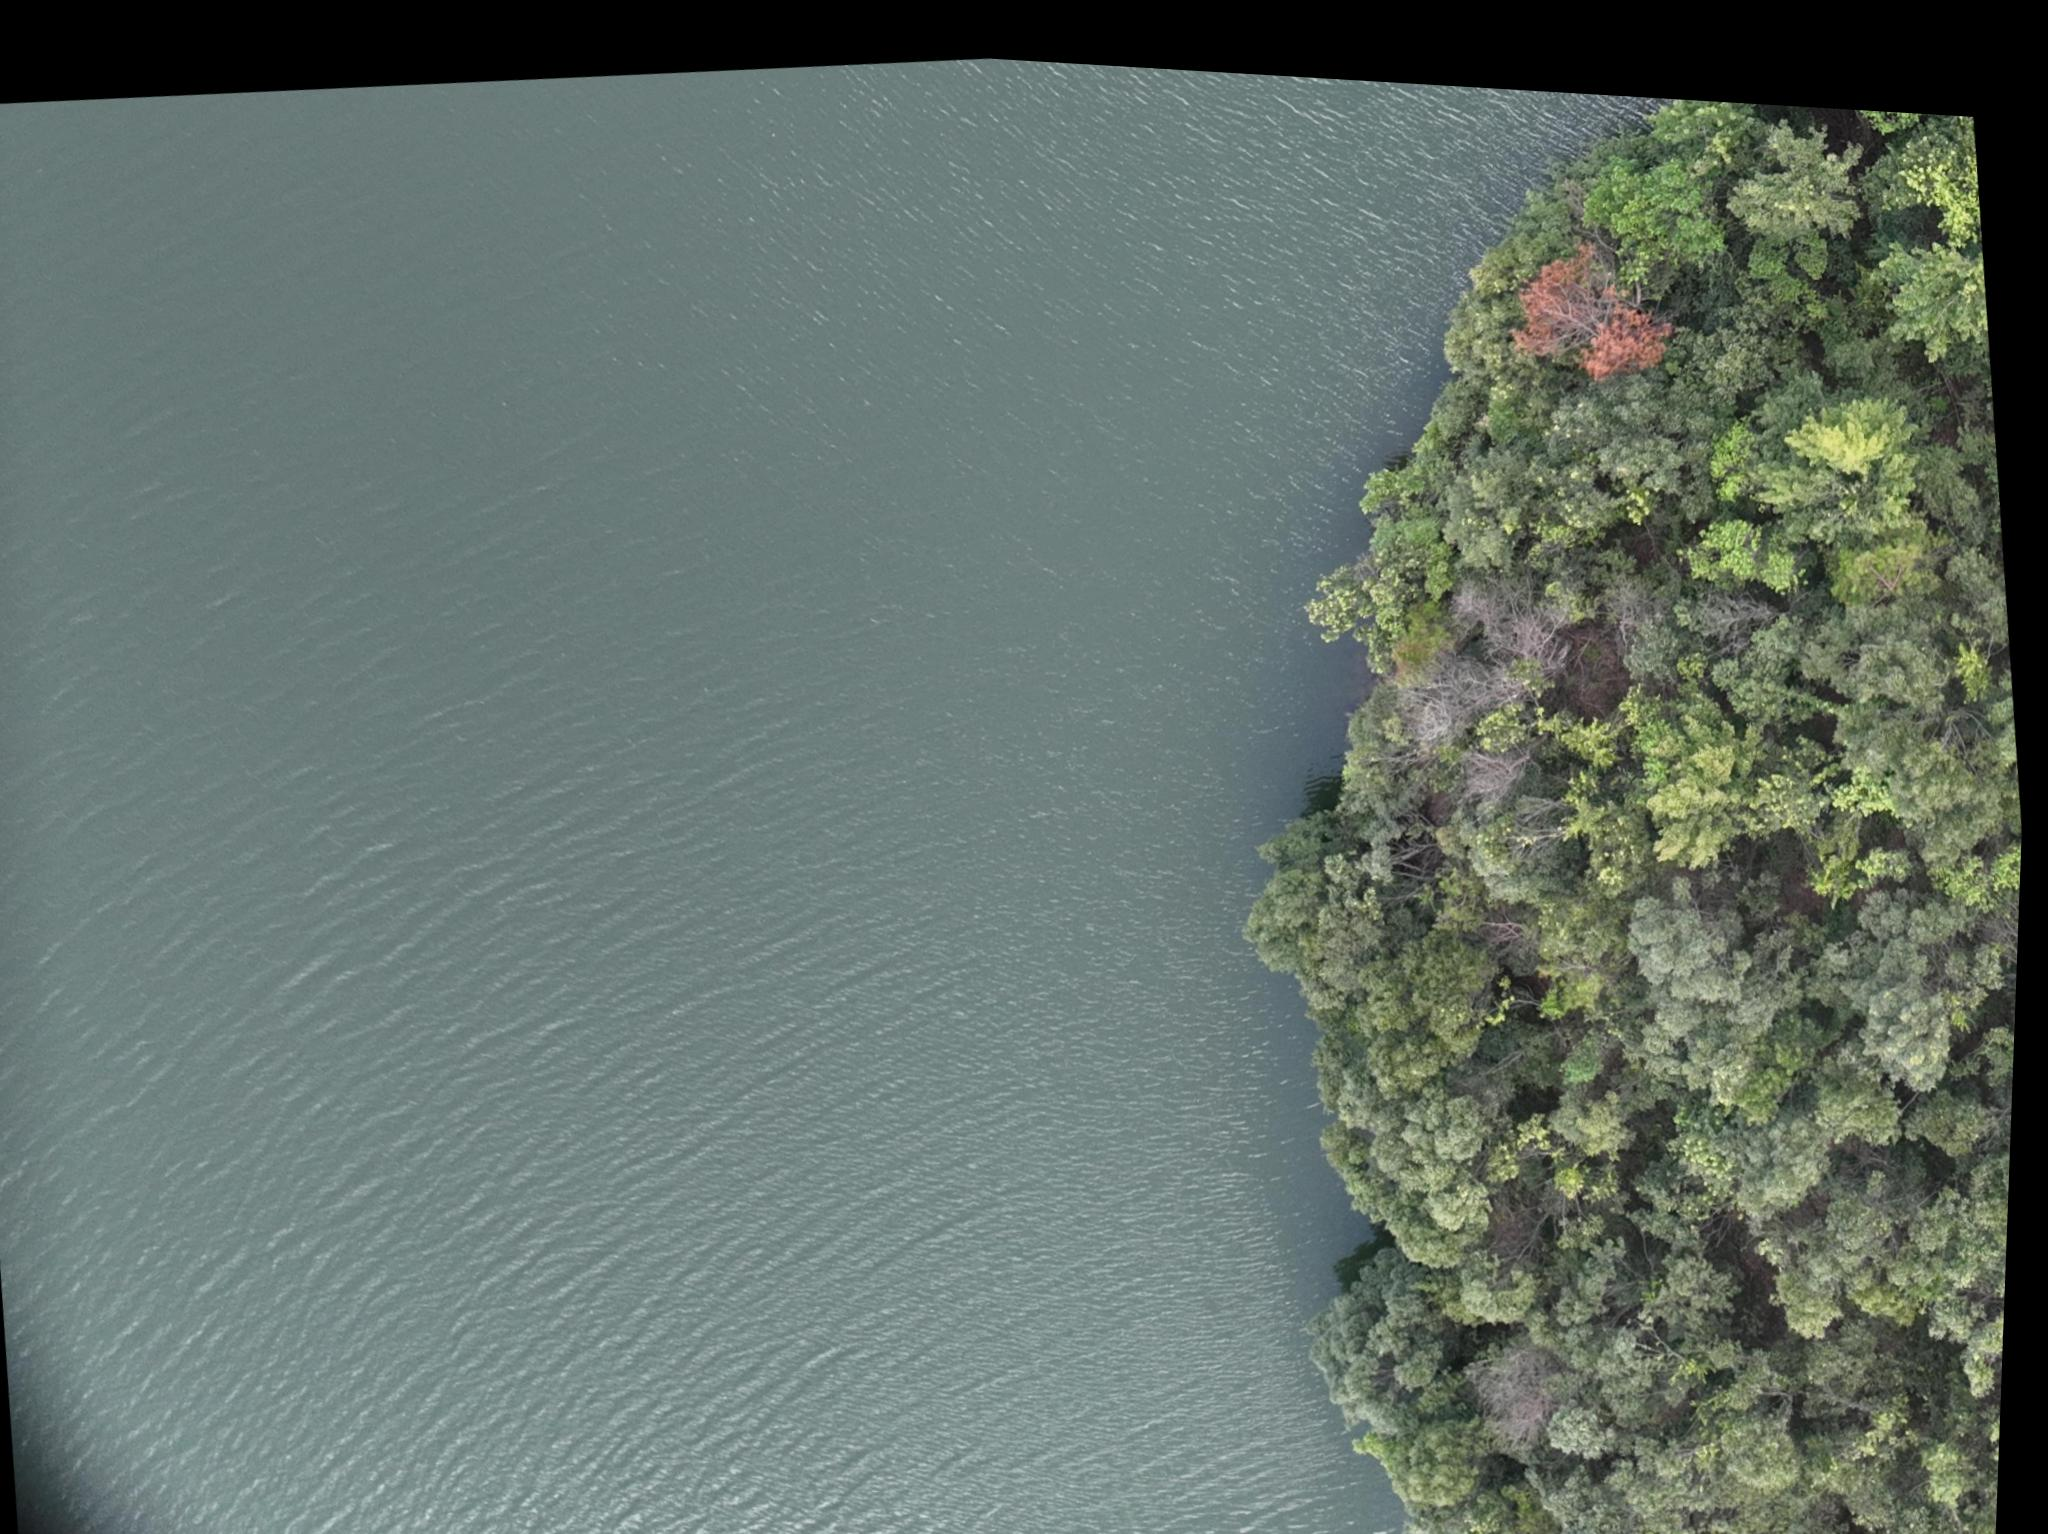dead: (1402, 636, 1528, 732), (1457, 551, 1577, 645), (1461, 728, 1542, 798)
heavy: (1500, 211, 1685, 375)
